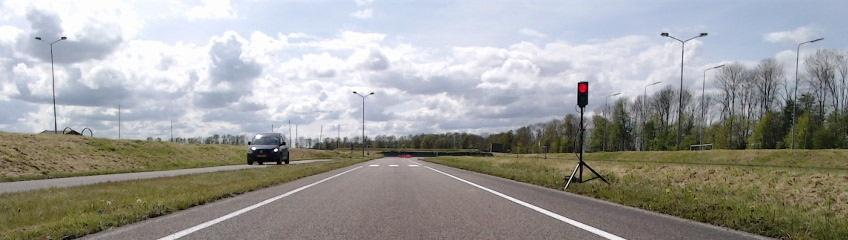TrafficLight-red: (577, 82, 588, 105)
